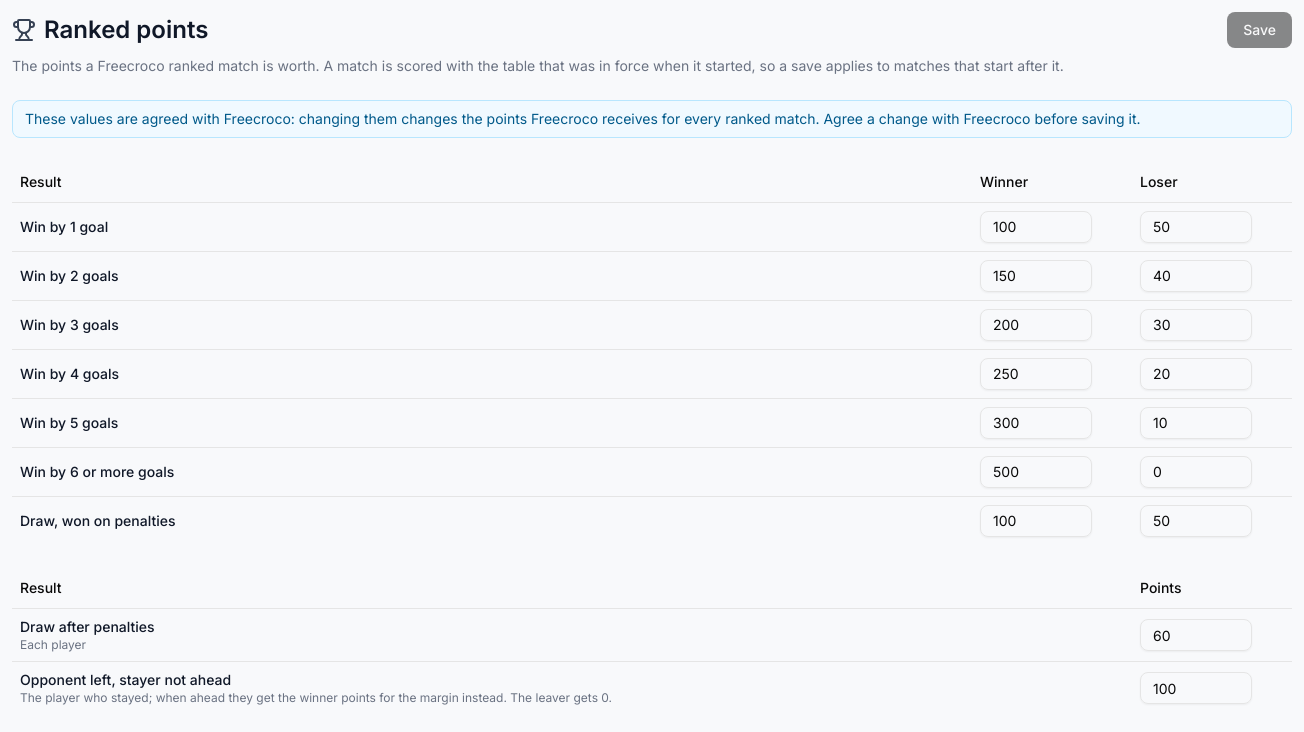
Test case: saves an edit, follows the new maximum, then reports a save that lost to another editor
The width and height of the screenshot is (1304, 732).
Expected: the text "Win by 6 or more goals" is shown, x1=12 y1=447 x2=972 y2=496
Replace the text in the number field named "Win by 6 or more goals winner" with "800" at [1036, 472], box x1=980 y1=456 x2=1092 y2=488
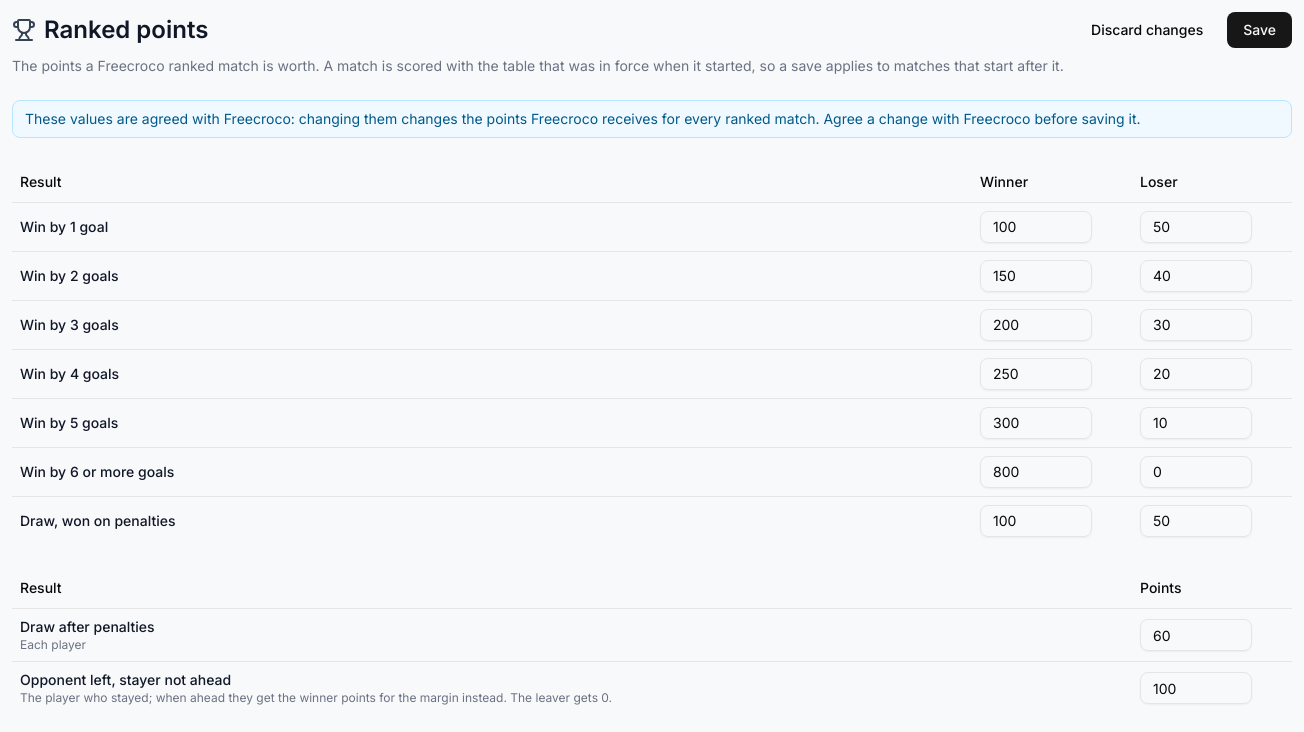
Click the button "Save".
click(1260, 30)  # box x1=1227 y1=12 x2=1292 y2=48
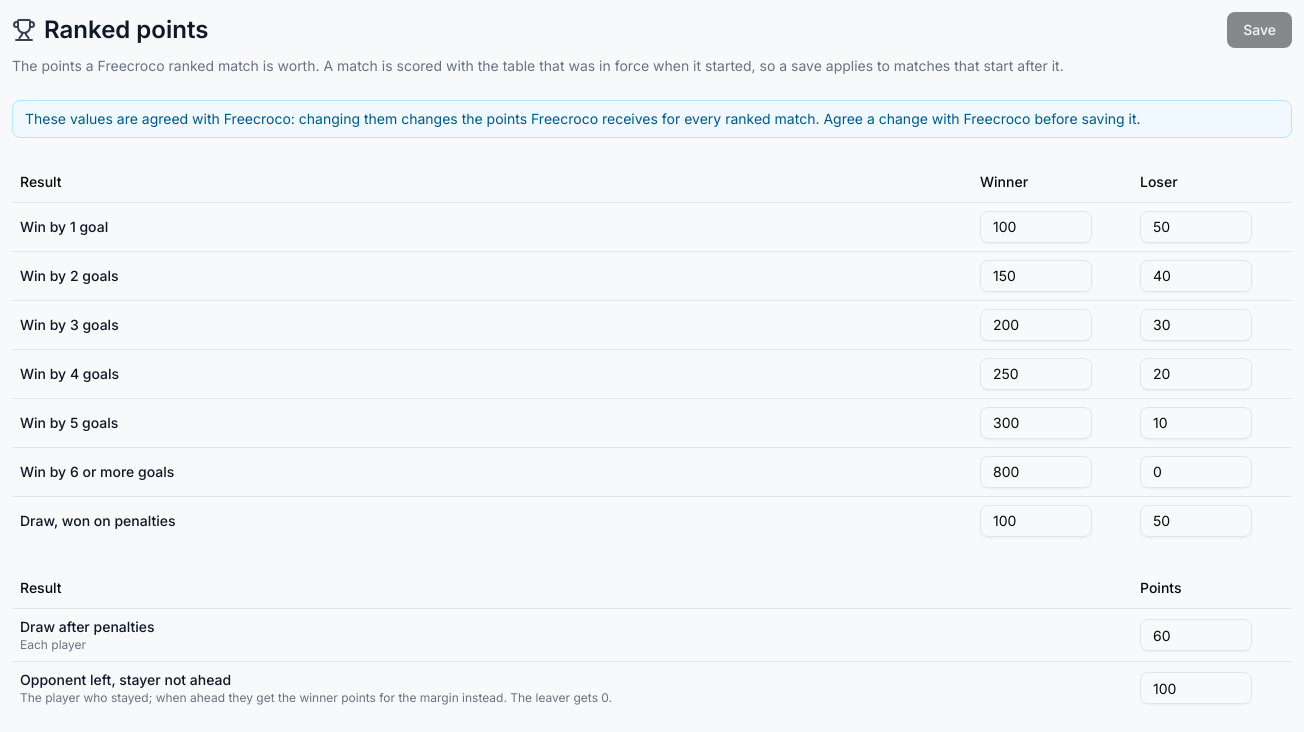
Replace the text in the number field named "Win by 2 goals winner" with "175" at [1036, 276], box x1=980 y1=260 x2=1092 y2=292
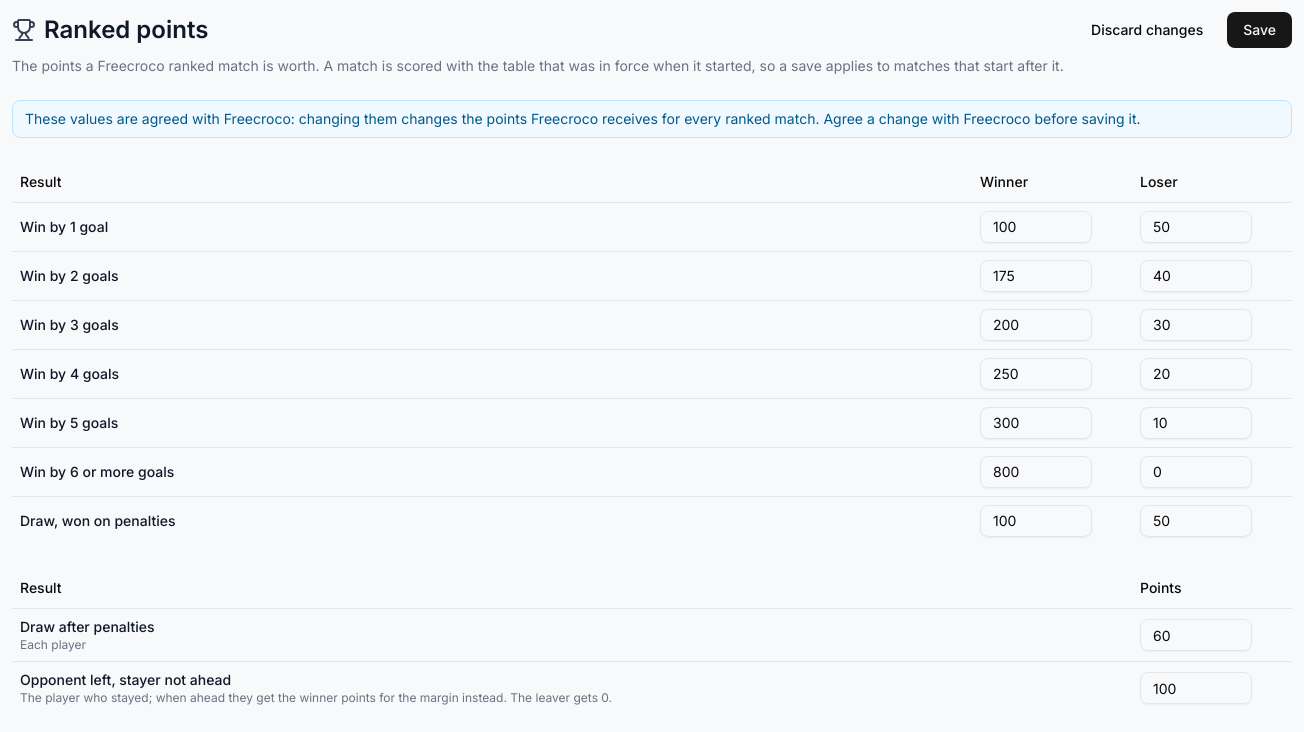
Click the button "Save".
click(1260, 30)  # box x1=1227 y1=12 x2=1292 y2=48
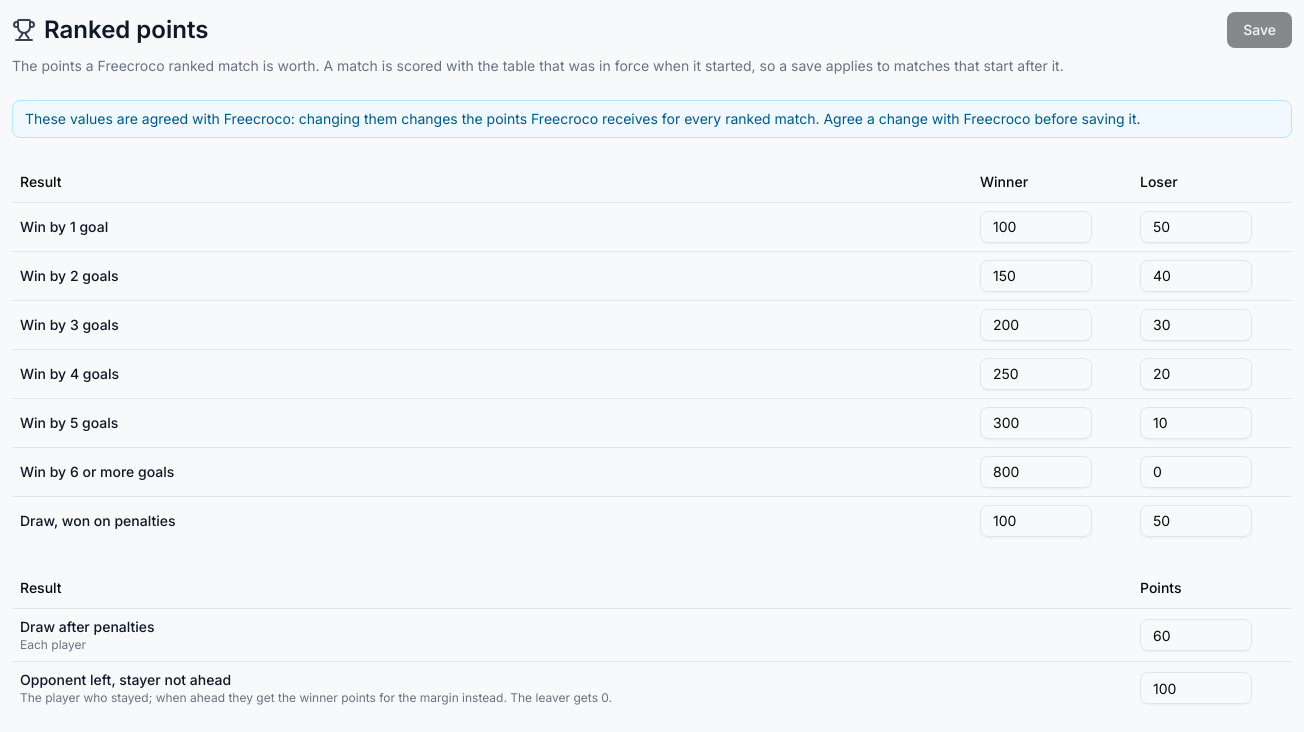
Expected: the number field named "Win by 2 goals winner" holds "150", x1=980 y1=260 x2=1092 y2=292
